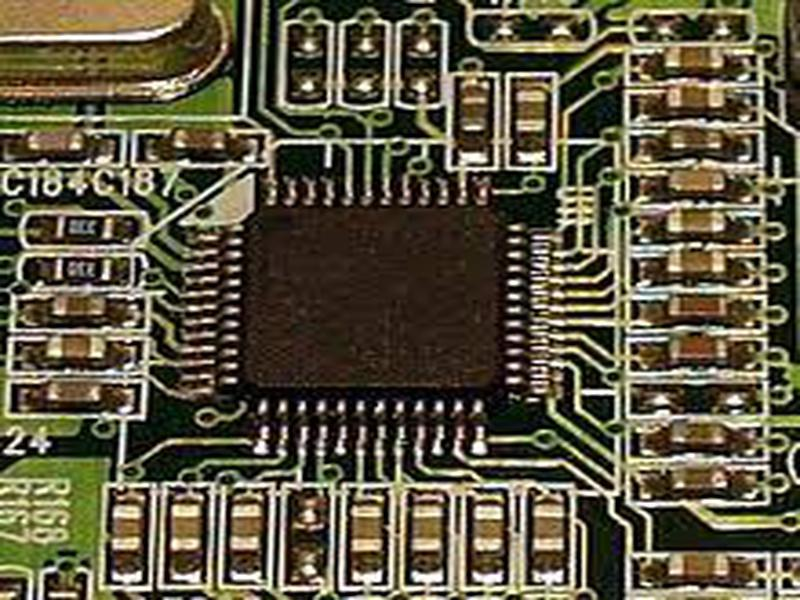SMD capacitor: (529, 489, 576, 573), (654, 548, 751, 587), (645, 208, 749, 243), (227, 486, 268, 570), (347, 490, 389, 569), (649, 80, 745, 114), (639, 338, 738, 369), (466, 497, 508, 569), (408, 492, 447, 568), (168, 489, 208, 559), (657, 248, 736, 281), (108, 490, 146, 555), (40, 333, 113, 364), (651, 169, 734, 195)
